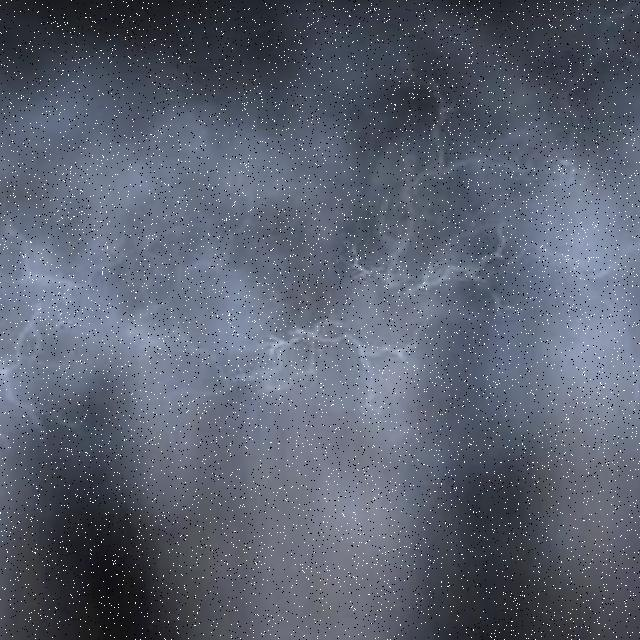Ns: (1, 76, 640, 640)
